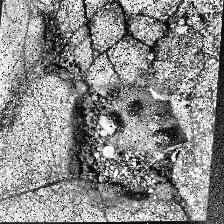pothole: (64, 84, 196, 204)
